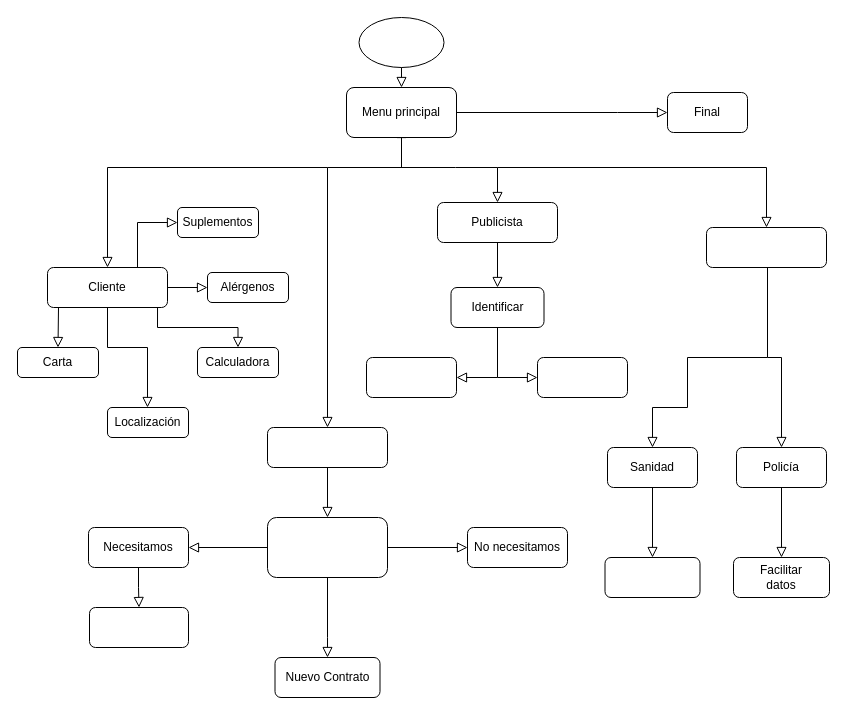
This 847x715 diagram has some shape labels left out. Each missing label, with the centre of its shape:
"Acordar reunion" goes at point 652,577.
"Acuerdo" goes at point 411,377.
"Agente Gobierno" goes at point 766,247.
"Cantidades" goes at point 138,627.
"IDENTIFICAR (Tabaco, Bebida, Marca)" goes at point 327,547.
"Inicio" goes at point 401,42.
"No acuerdo" goes at point 582,377.
"Proveedor" goes at point 327,447.
